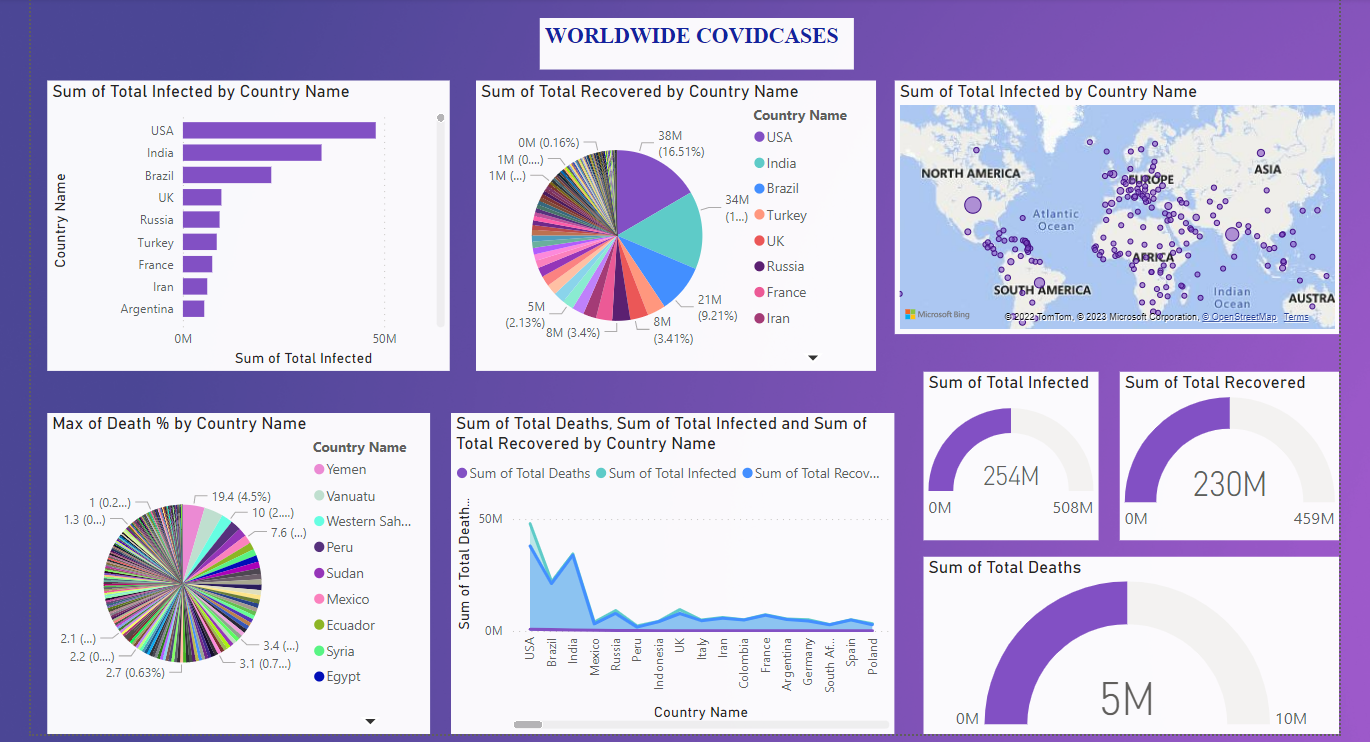

Layout of this report page (visuals, bound fields, positions):
{"tool":"powerbi","page":{"name":"Page 1","canvas":[1280,720],"ordinal":0},"visuals":[{"type":"barChart","fields":{"Category":["COVID CASE DATASET.Country Name"],"Y":["Sum(COVID CASE DATASET.Total Infected)"]},"box":[16.5,81,393.8,284],"z":0},{"type":"map","fields":{"Category":["COVID CASE DATASET.Country Name"],"Size":["Sum(COVID CASE DATASET.Total Infected)"]},"box":[845.3,81,435,248.4],"z":1000},{"type":"gauge","fields":{"Y":["Sum(COVID CASE DATASET.Total Infected)"]},"box":[872.7,365,171.5,164.7],"z":2000},{"type":"areaChart","fields":{"Category":["COVID CASE DATASET.Country Name"],"Y":["Sum(COVID CASE DATASET.Total Deaths)","Sum(COVID CASE DATASET.Total Infected)","Sum(COVID CASE DATASET.Total Recovered)"]},"box":[410.7,405.8,434,314.2],"z":3000},{"type":"gauge","fields":{"Y":["Sum(COVID CASE DATASET.Total Deaths)"]},"box":[872.8,546.4,407.1,173.6],"z":4000},{"type":"pieChart","fields":{"Category":["COVID CASE DATASET.Country Name"],"Y":["Max(COVID CASE DATASET.Death %)"]},"box":[16.5,406.2,374.6,314.2],"z":5000},{"type":"gauge","fields":{"Y":["Sum(COVID CASE DATASET.Total Recovered)"]},"box":[1064.7,365.5,215.1,165],"z":6000},{"type":"pieChart","fields":{"Category":["COVID CASE DATASET.Country Name"],"Y":["Sum(COVID CASE DATASET.Total Recovered)"]},"box":[435,81,391.1,284],"z":7000},{"type":"textbox","box":[498.1,19.2,307.4,50.8],"z":8000}]}

Visuals, with their boxes in screenshot pixels (x1, y1, x2, y2):
barChart - COVID CASE DATASET.Country Name x Sum(COVID CASE DATASET.Total Infected): <bbox>49, 79, 449, 367</bbox>
map - COVID CASE DATASET.Country Name x Sum(COVID CASE DATASET.Total Infected): <bbox>891, 79, 1333, 331</bbox>
gauge - Sum(COVID CASE DATASET.Total Infected): <bbox>919, 367, 1093, 535</bbox>
areaChart - COVID CASE DATASET.Country Name x Sum(COVID CASE DATASET.Total Deaths): <bbox>450, 409, 891, 728</bbox>
gauge - Sum(COVID CASE DATASET.Total Deaths): <bbox>919, 552, 1333, 728</bbox>
pieChart - COVID CASE DATASET.Country Name x Max(COVID CASE DATASET.Death %): <bbox>49, 409, 430, 729</bbox>
gauge - Sum(COVID CASE DATASET.Total Recovered): <bbox>1114, 368, 1333, 536</bbox>
pieChart - COVID CASE DATASET.Country Name x Sum(COVID CASE DATASET.Total Recovered): <bbox>474, 79, 872, 367</bbox>
textbox: <bbox>538, 16, 851, 68</bbox>
